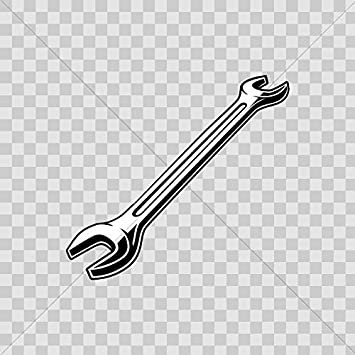Job: (43, 71, 318, 285)
